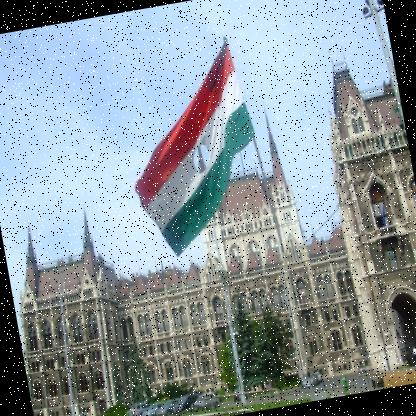hu: (112, 37, 273, 264)
